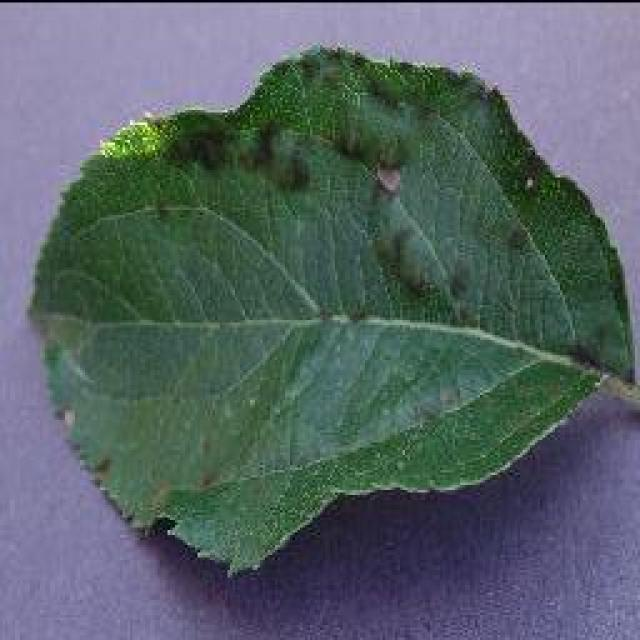apple scab disease: (25, 43, 637, 575)
